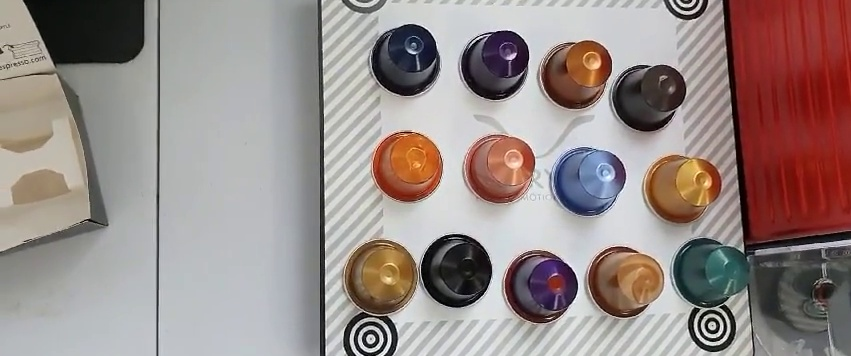capsule_1: (369, 23, 441, 99)
capsule_10: (419, 233, 491, 309)
capsule_11: (503, 249, 580, 326)
capsule_12: (582, 242, 665, 321)
capsule_13: (672, 235, 749, 311)
capsule_2: (456, 30, 529, 103)
capsule_3: (537, 42, 610, 111)
capsule_4: (611, 61, 686, 135)
capsule_5: (373, 127, 445, 204)
capsule_6: (462, 129, 537, 206)
capsule_7: (550, 147, 624, 217)
capsule_8: (642, 151, 722, 226)
capsule_9: (337, 235, 417, 318)
